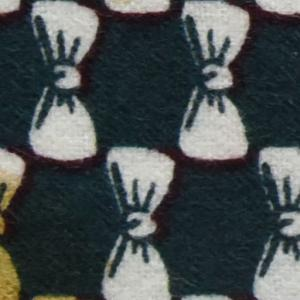Stain: (1, 166, 102, 300)
